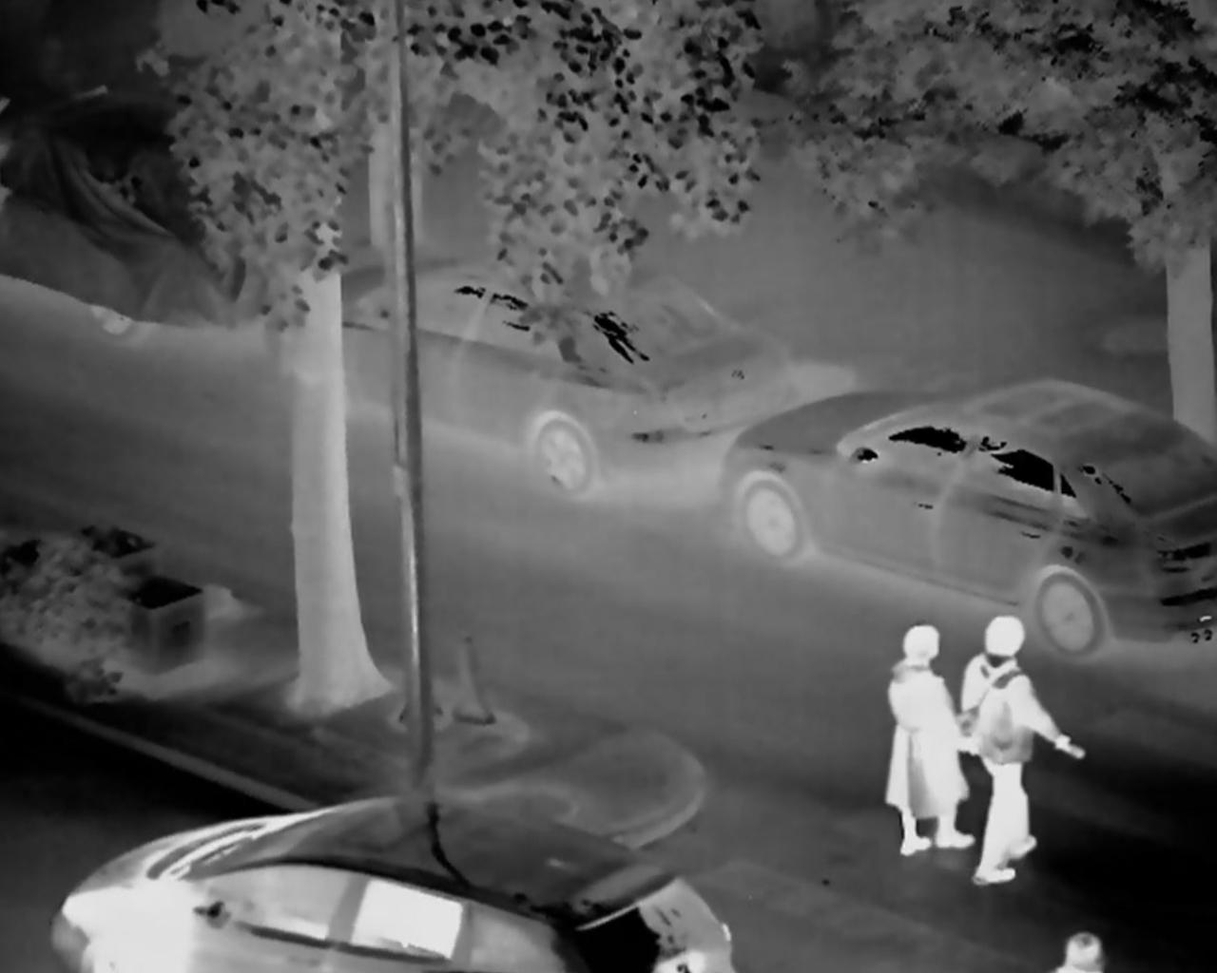person: (961, 609, 1096, 887), (876, 621, 976, 879)
